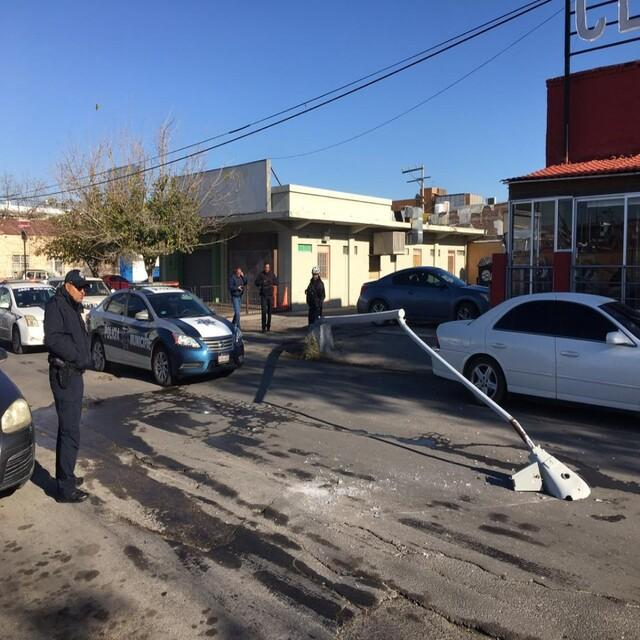Inclined Pole: (299, 305, 598, 509)
